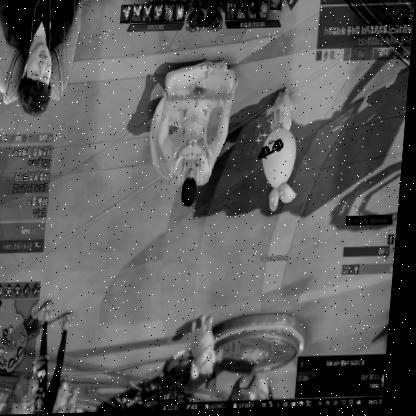streamer: (0, 0, 82, 119)
